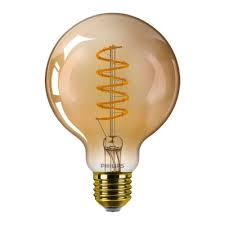bulb: (32, 5, 184, 180)
